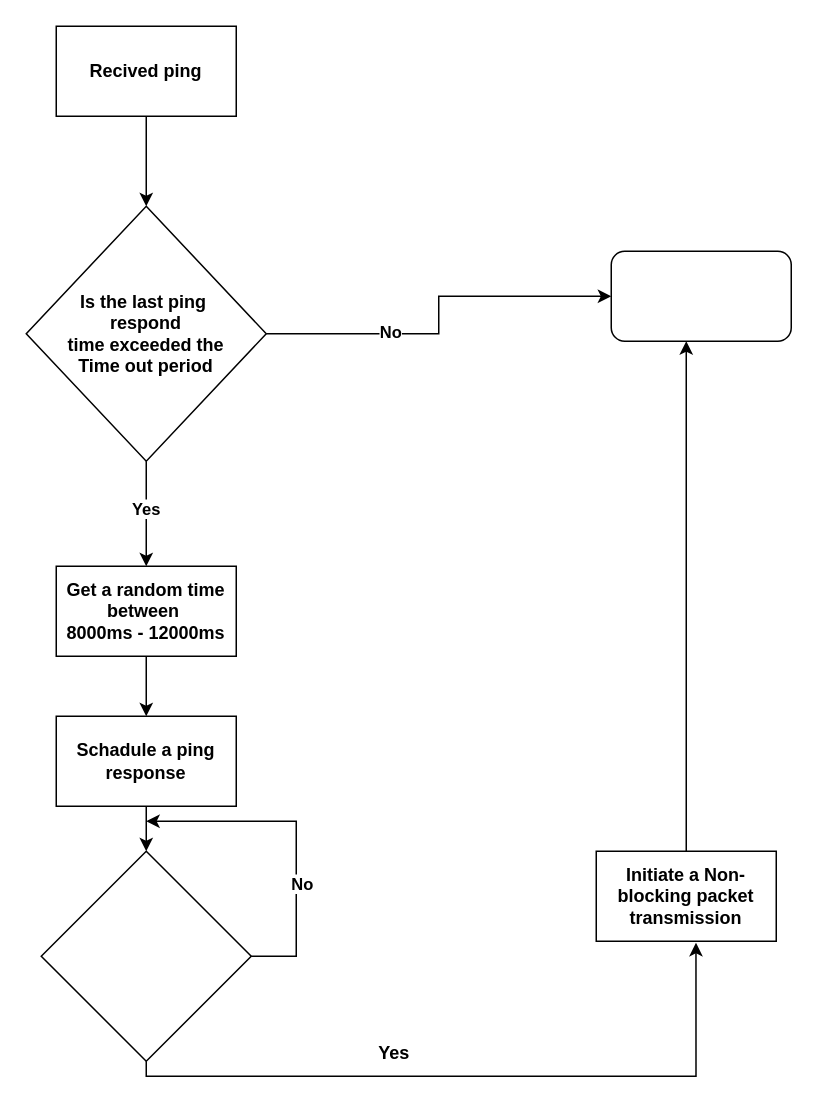
This 818x1115 diagram has some shape labels left out. The shapes that lost their labels are listed below. From the top down, each one's centre as x and y in pixels, then its label:
At (700,295): "End".
At (145,955): "Is the schaduled time reached?".
